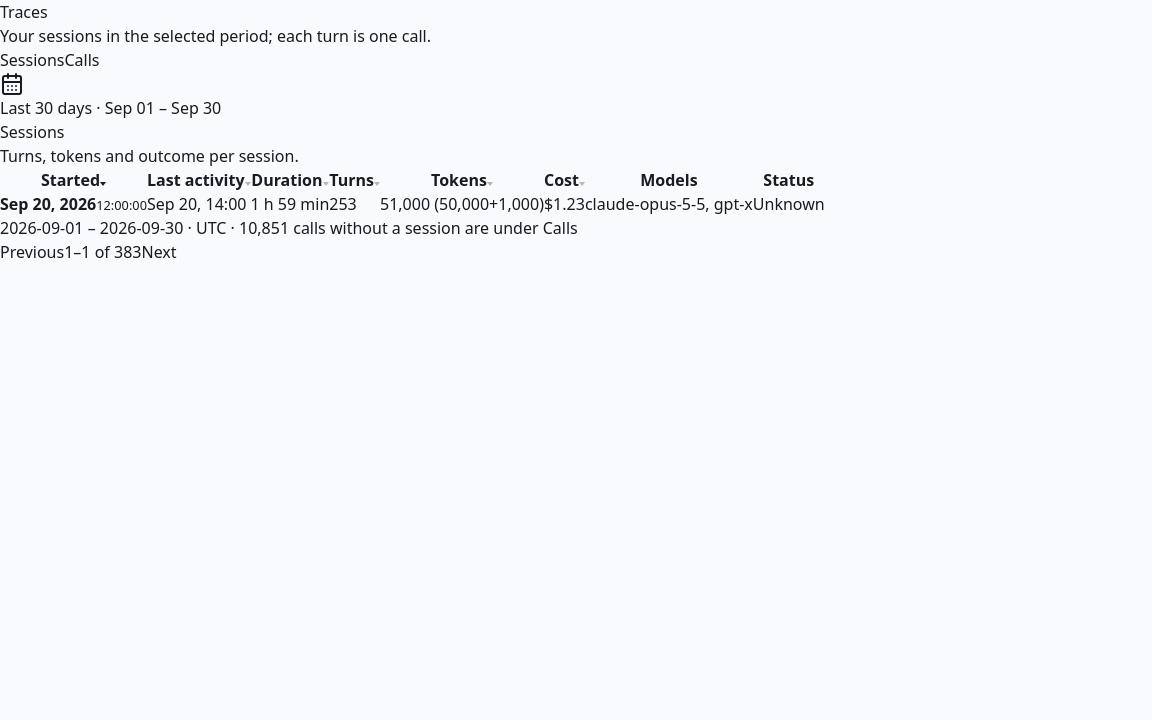
Scenario: Sessions › a session row opens the detail: totals, category, turn timeline with gaps
Click the button with aria-label "Open session 128db405-aaaa-bbbb" at coordinates (74, 204), box [0,192,147,216]
(page scrolled)
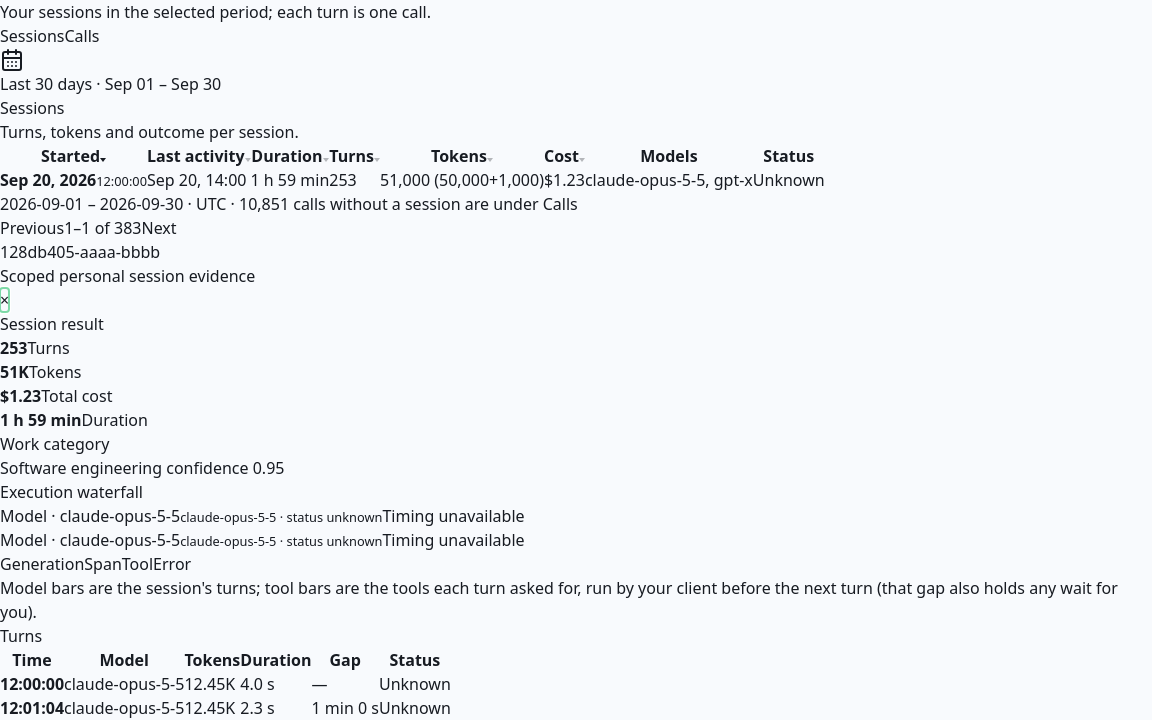
Expected: the text "253" is shown, [0,337,28,359]
Expected: the text "$1.23" is shown, [0,385,41,407]
Expected: the text "Software engineering" is shown, [0,457,162,479]
